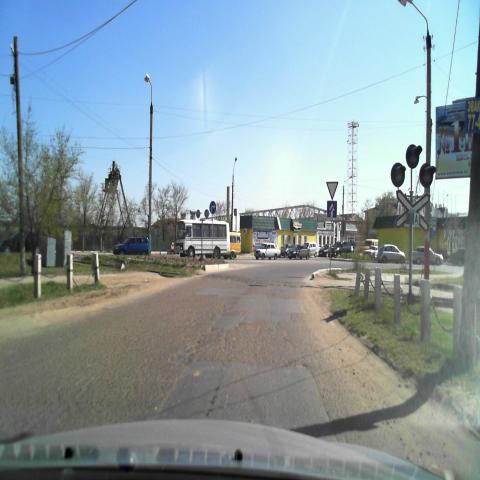4_1_2: (210, 201, 216, 215)
